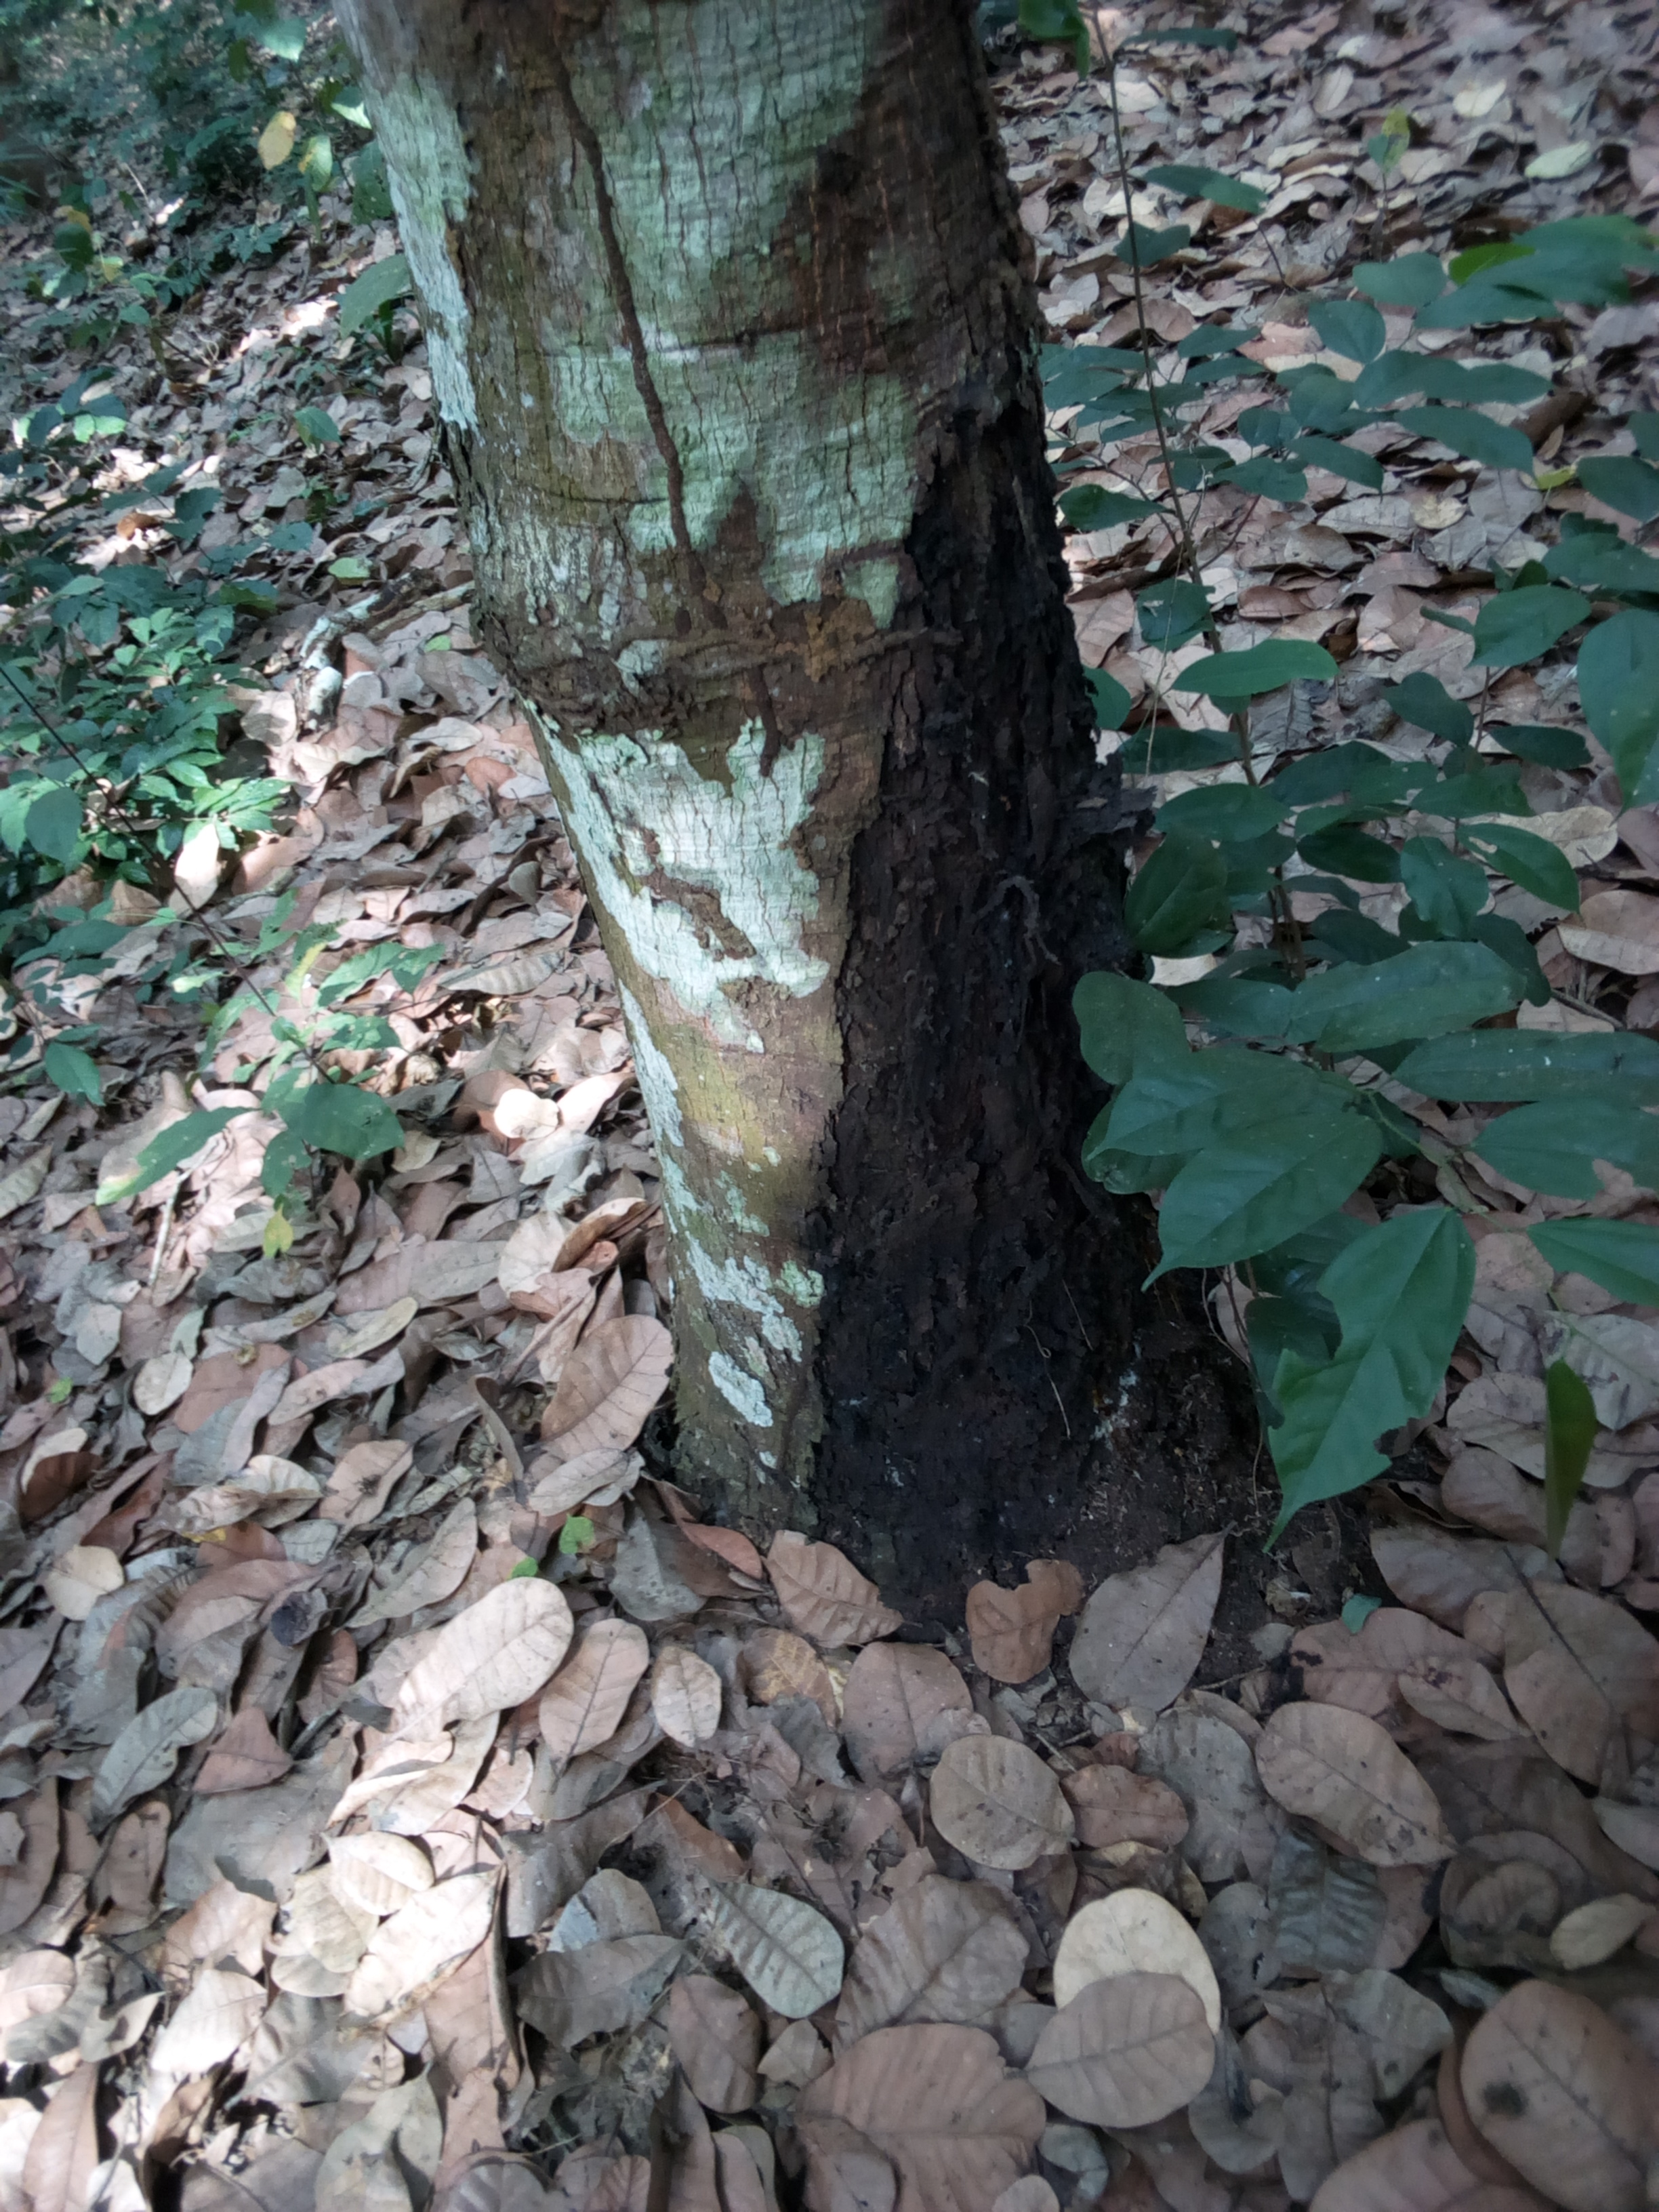Gommose: (836, 432, 1148, 1577)
